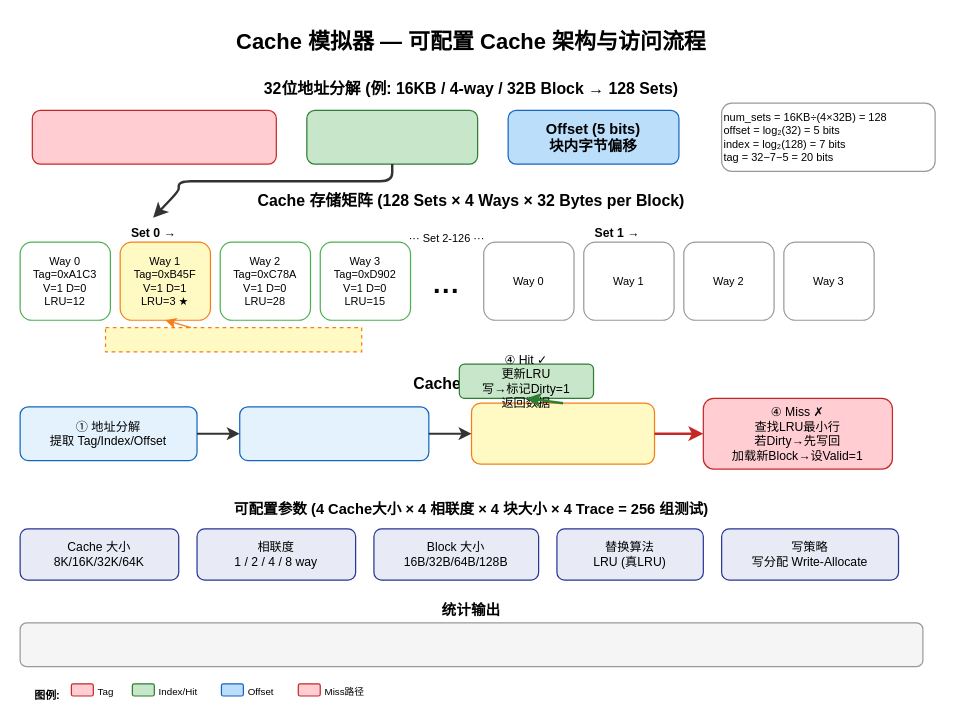
The diagram is 955 pixels wide and 721 high, and some of its shapes have lost their labels. The centre of each missing label's shape, as x and y in pixels:
Index (7 bits) 选择 Cache Set: the point at 392,136
Tag (20 bits) 用于比较匹配: the point at 153,136
② Index定位Set 所有Way Tag并行比较: the point at 334,433
③ 命中判断 Tag匹配 & Valid=1?: the point at 562,433
▲ LRU=3最小 → 淘汰Way1 (D=1需先写回): the point at 233,339
总访问次数 | 读/写/取指次数 | 总命中率 | 读命中率 | 写命中率 | 缺失率 | 替换(淘汰)次数 | 写回(Dirty淘汰)次数: the point at 471,644
